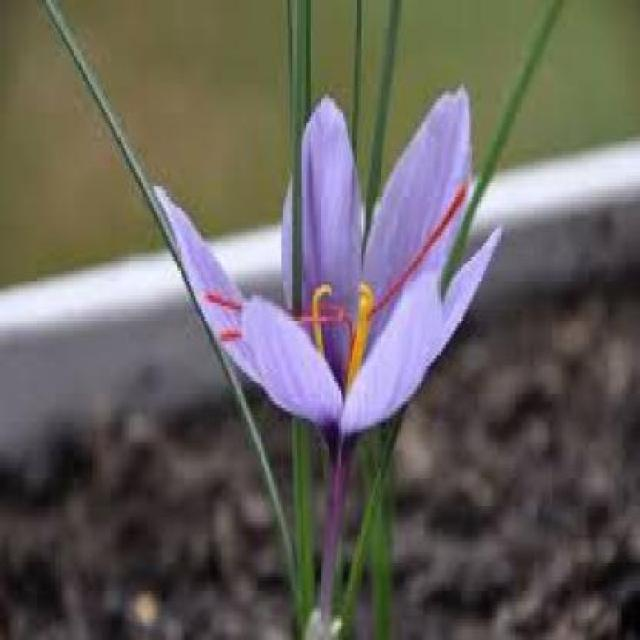saffron open: (143, 88, 500, 640)
